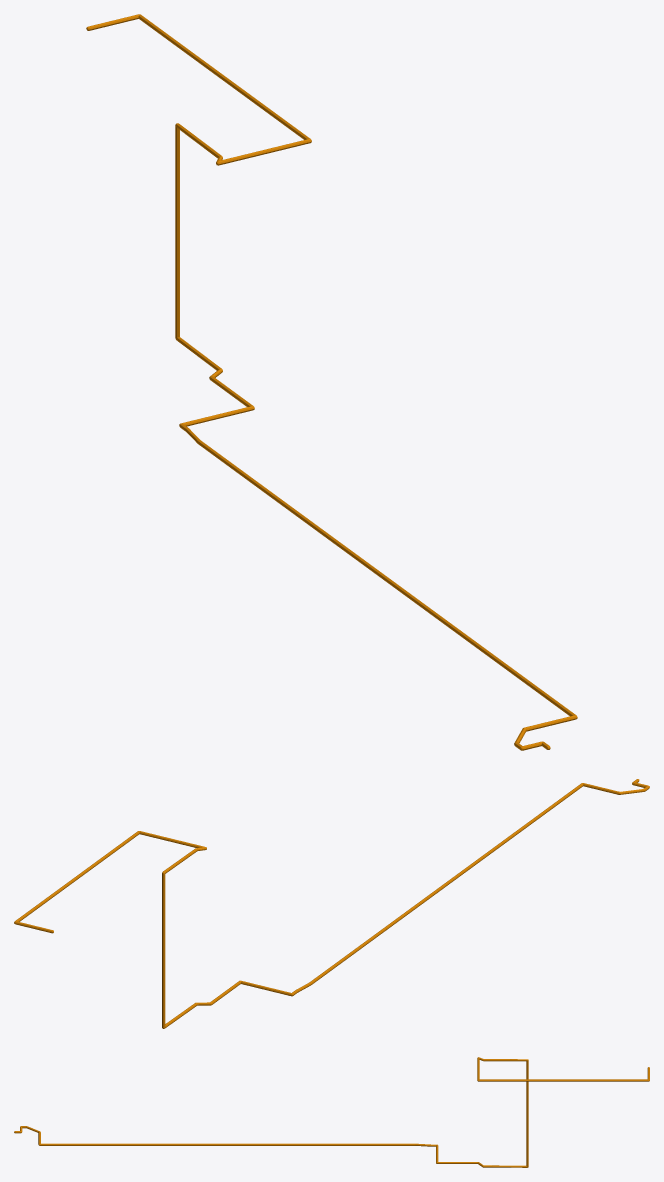
3 views of the same model, one above another, from view 1: azimuth 30°, elevation 25°; view 2: azimuth 150°, elevation 25°; view 3: azimuth 270°, elevation 25° (orthographic). The views are drawn at different scales.
Bounding box in the file's own units: 1224 × 1020 × 5416.
